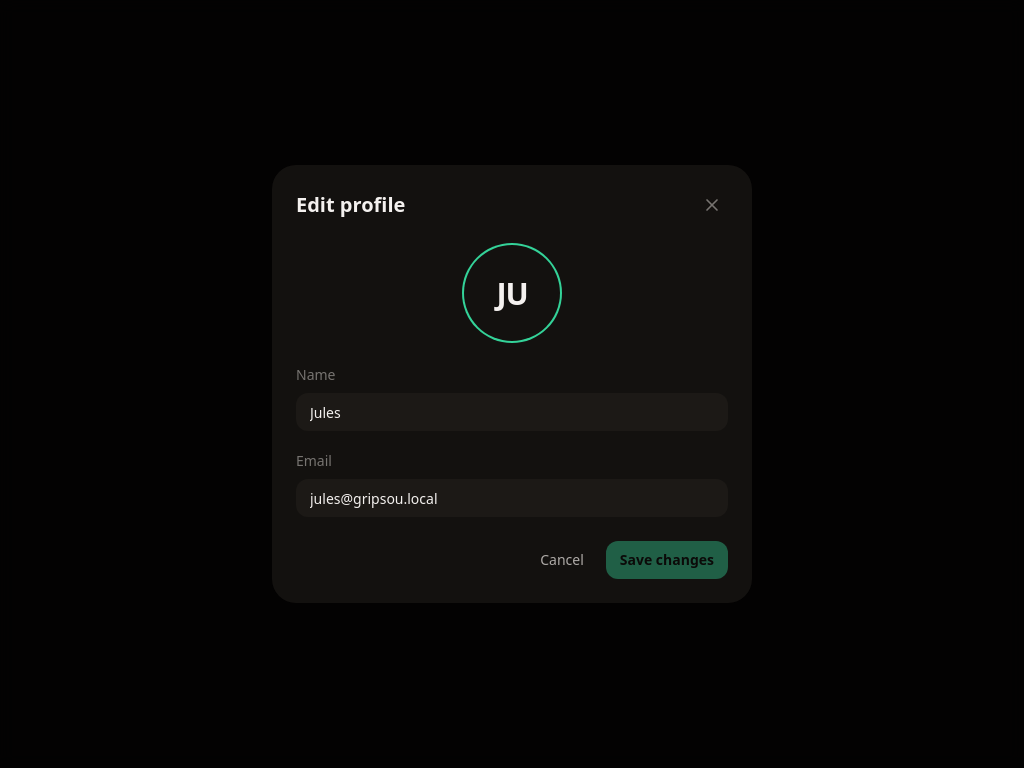
EditProfileModal › says the email is in use on a 409 and stays open
Replace the text in the field labelled "Email" with "taken@gripsou.local": (512, 498) [296,479,728,517]
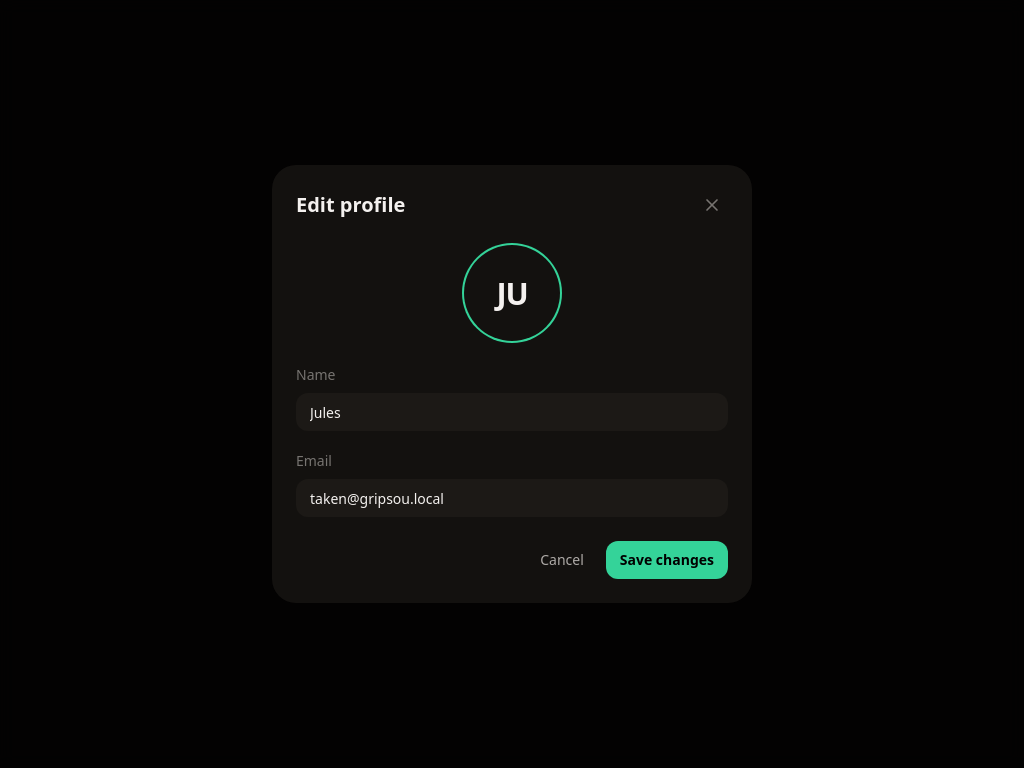
Click the button "Save changes": (667, 560) [606,541,728,579]
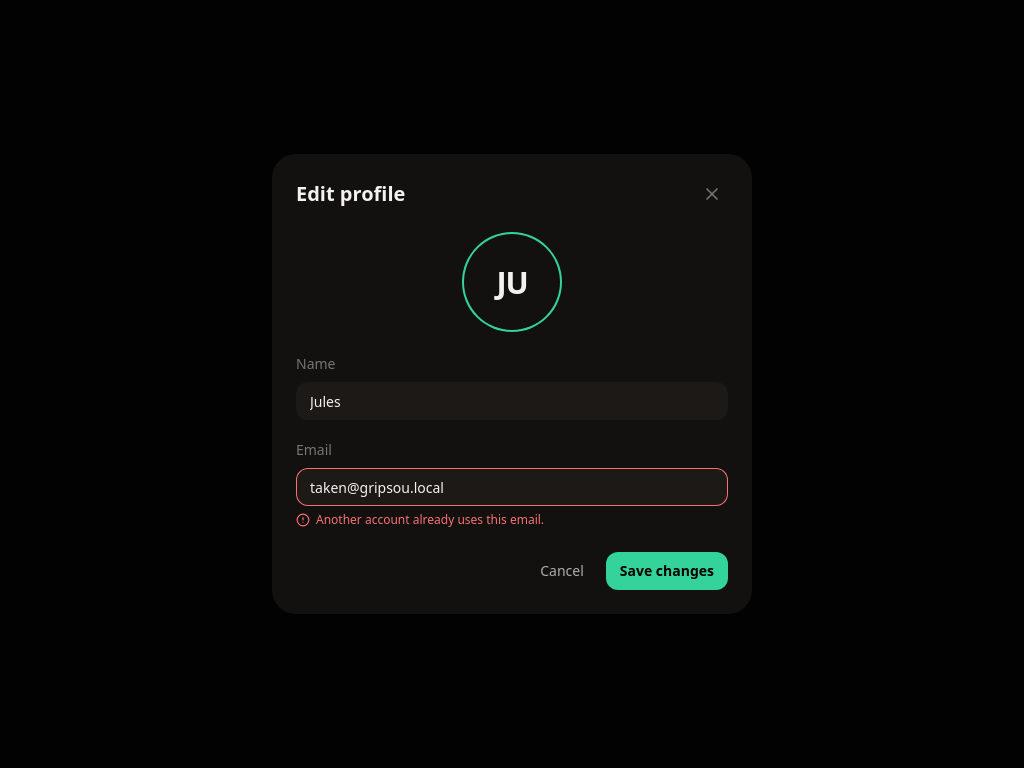
Expected: the text "Another account already uses this email." is shown, [296,511,544,528]
